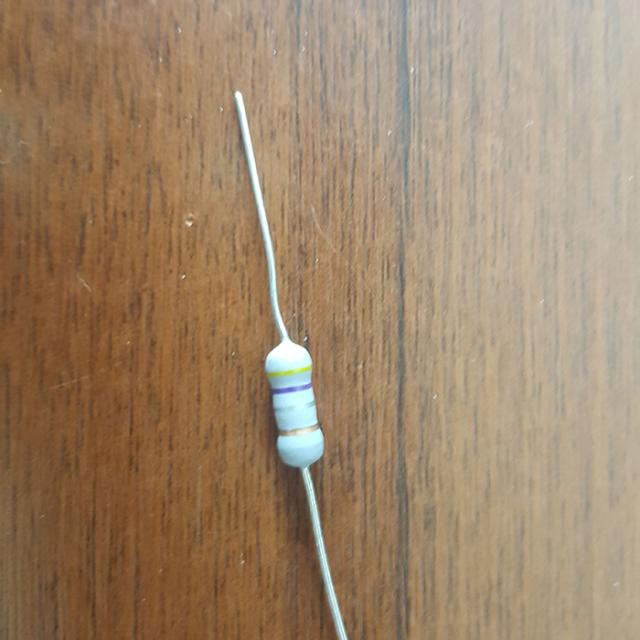Resistor Carbon-Film: (259, 341, 329, 471)
